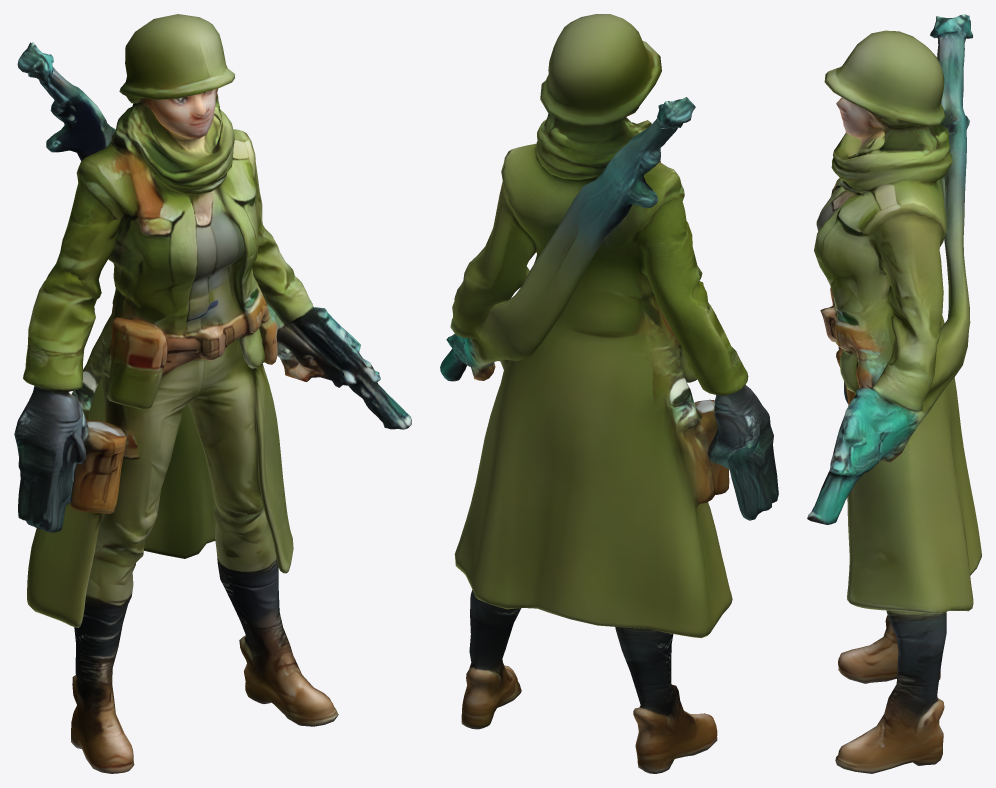
File: vera_raw.glb
The picture shows the model from 3 angles, left to right: view 1: azimuth 30°, elevation 25°; view 2: azimuth 150°, elevation 25°; view 3: azimuth 270°, elevation 25°; orthographic projection. The views are drawn at different scales.
Parts seen in each view (by area): view 1: model; view 2: model; view 3: model.
Part boxes in pixels (x1=…): model: x1=14, y1=14, x2=411, y2=773; model: x1=440, y1=14, x2=778, y2=773; model: x1=807, y1=14, x2=981, y2=773.
Size of the model in its own units: 0.9939 by 1.9 by 0.444.
Materials: 1 (1 with a texture image).
